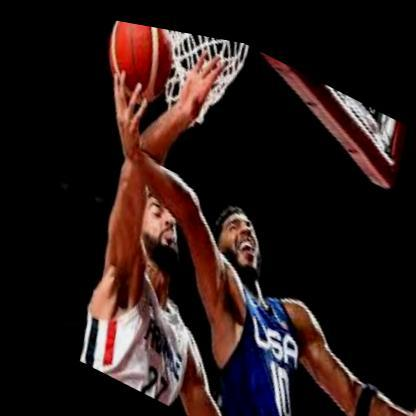basketball: (88, 12, 194, 113)
